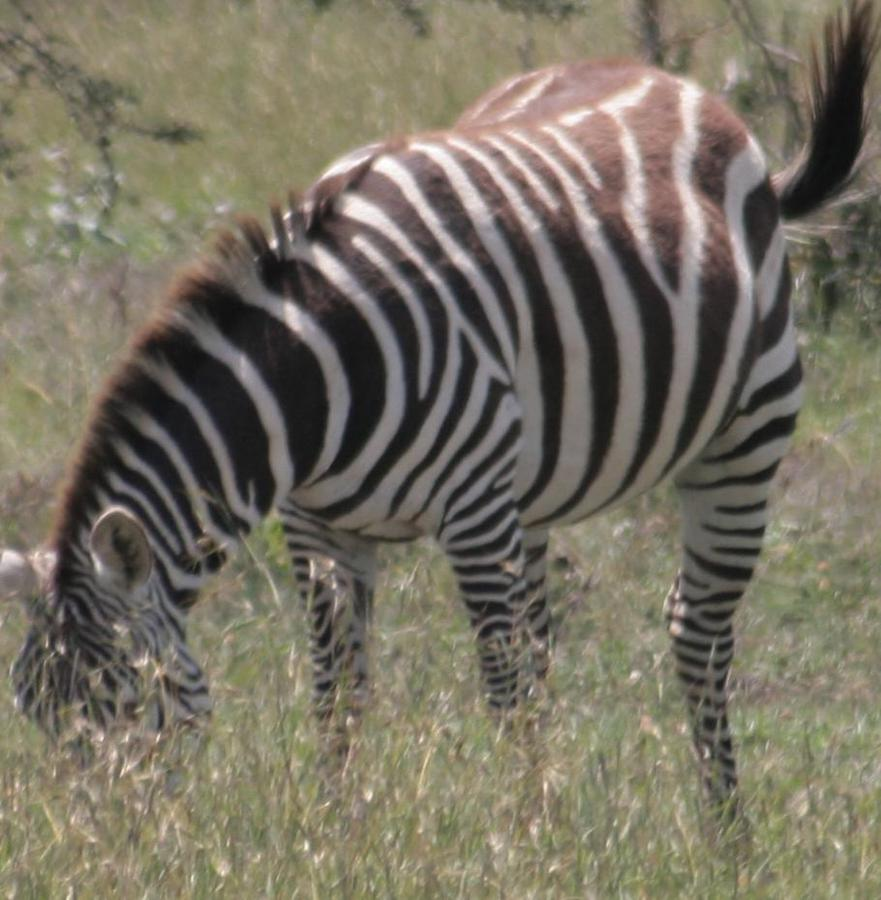zebra_plains: (266, 86, 866, 543)
